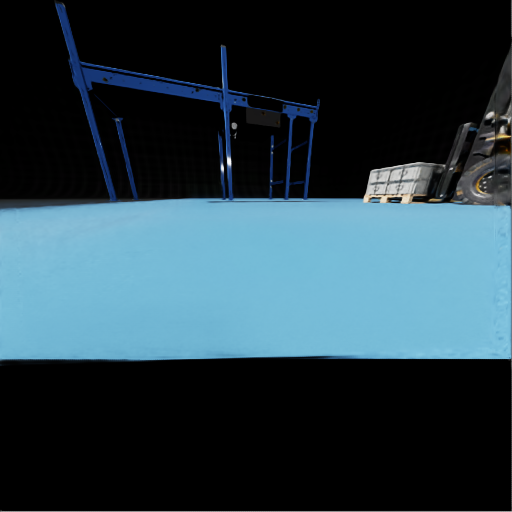transportation_area: (386, 179, 438, 194), (403, 164, 405, 170)
